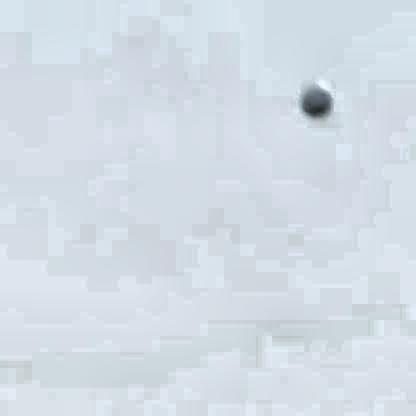golfball: (297, 75, 330, 114)
